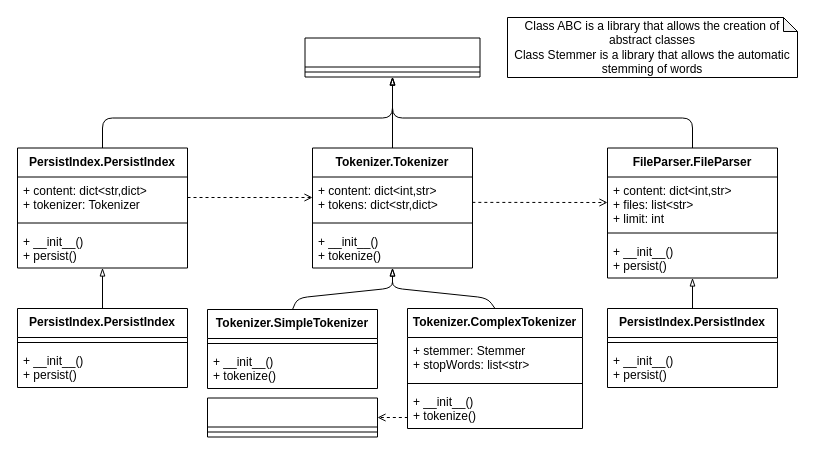
Image size: 815x455. Some labels were removed from this diagram. The shapes that lost their labels are listed below. From the top down, each one's centre as x and y in pixels, then its label:
(392,57): abc.ABC
(292,417): Stemmer
